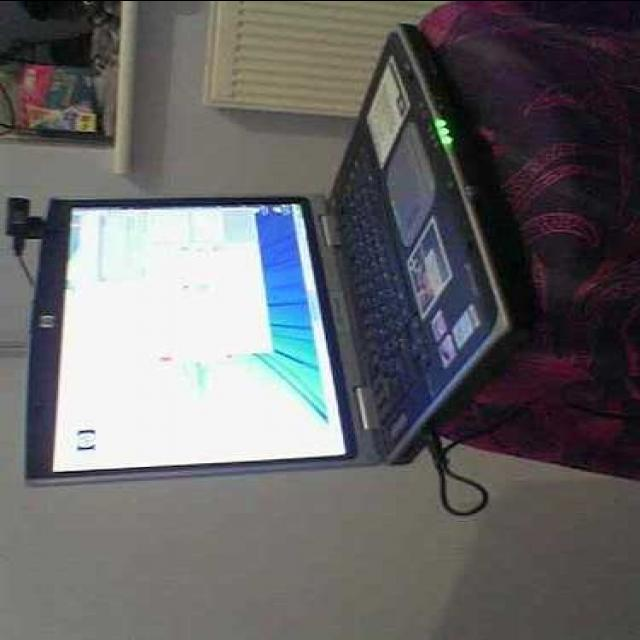laptop: (32, 82, 516, 504)
